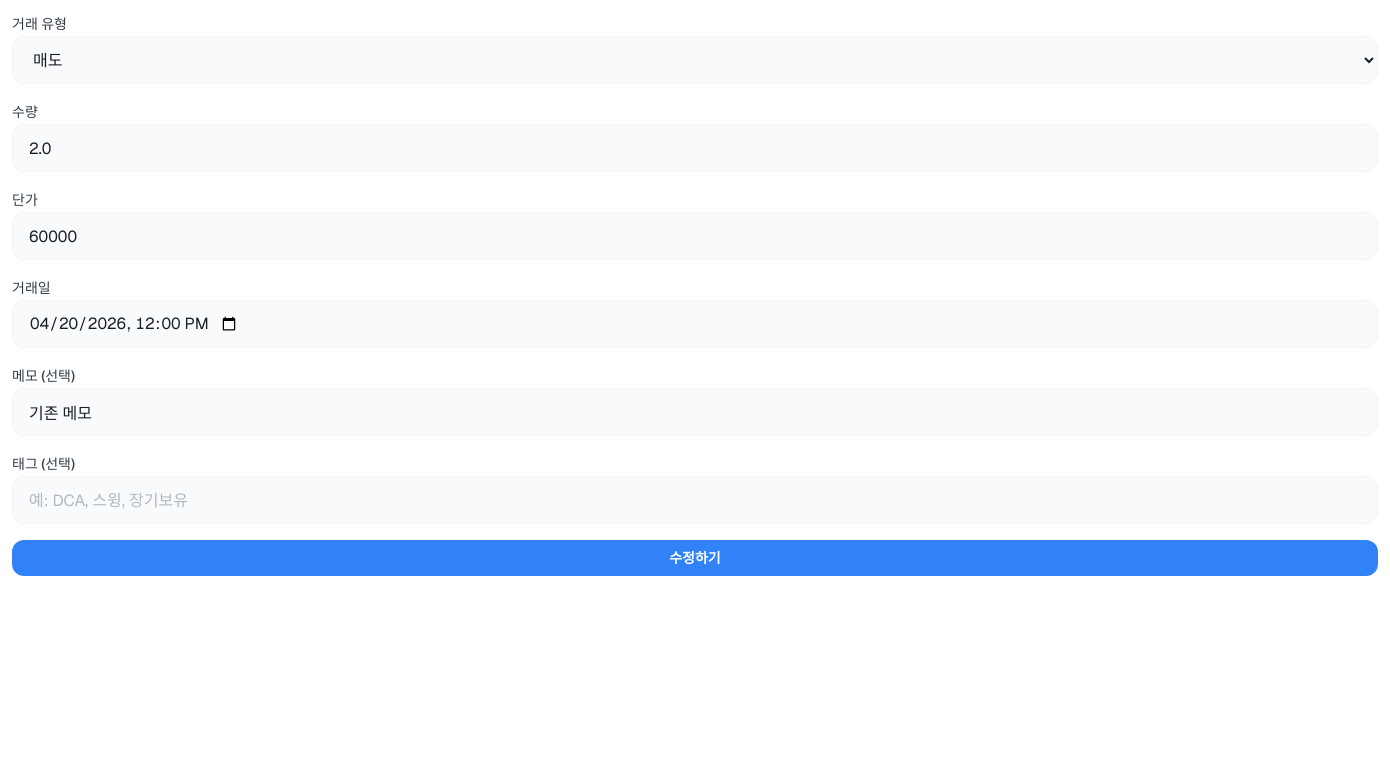
Test case: TransactionForm (edit 모드) › 409 에러 시 '수정 결과가 보유 수량을 초과합니다' 한글 메시지가 표시된다
Click the button "수정하기": (695, 558) [12,540,1378,576]
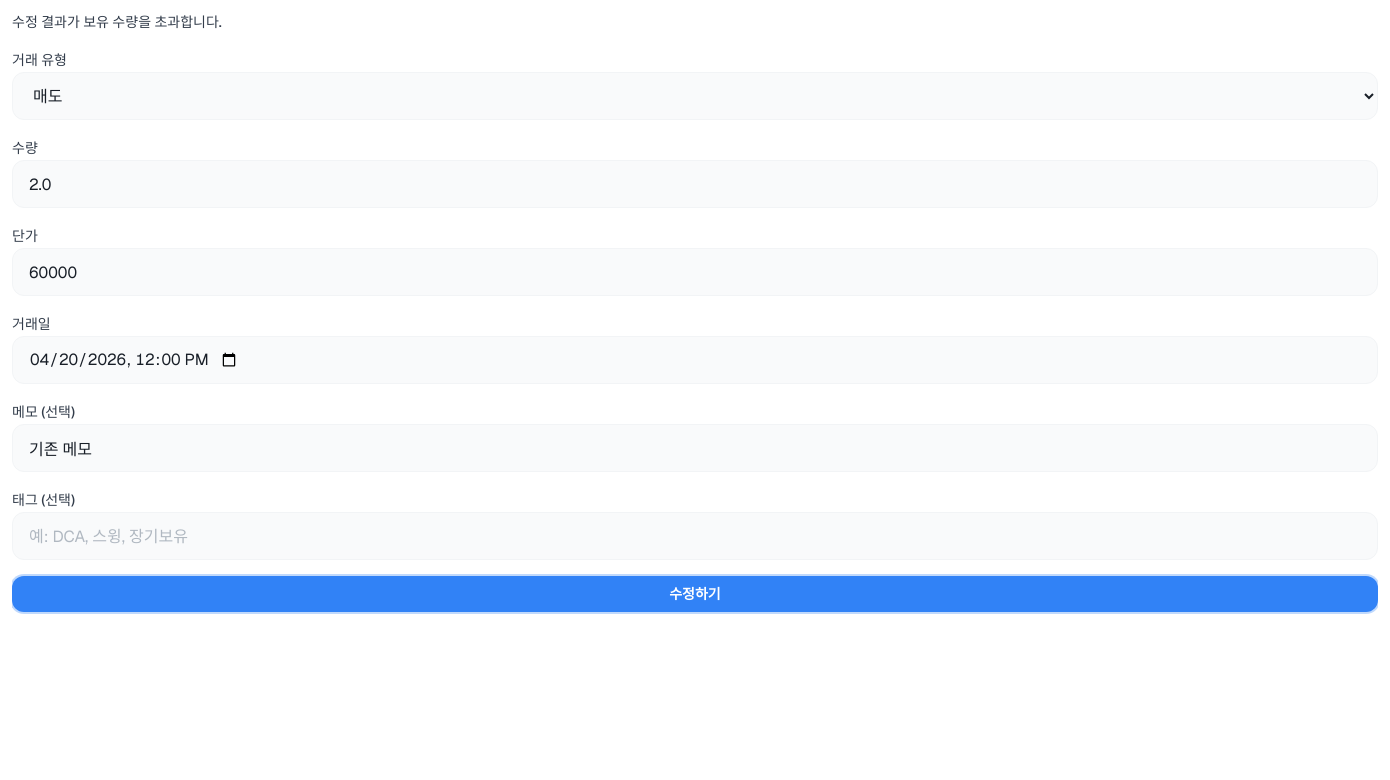
Expected: the message reads "수정 결과가 보유 수량을 초과합니다.", [12,13,222,31]
